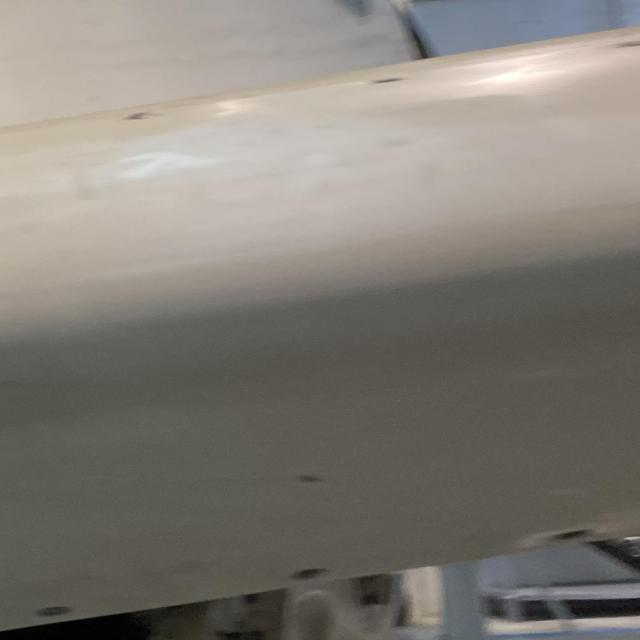Missing-head: (36, 607, 74, 623), (293, 569, 330, 582)
